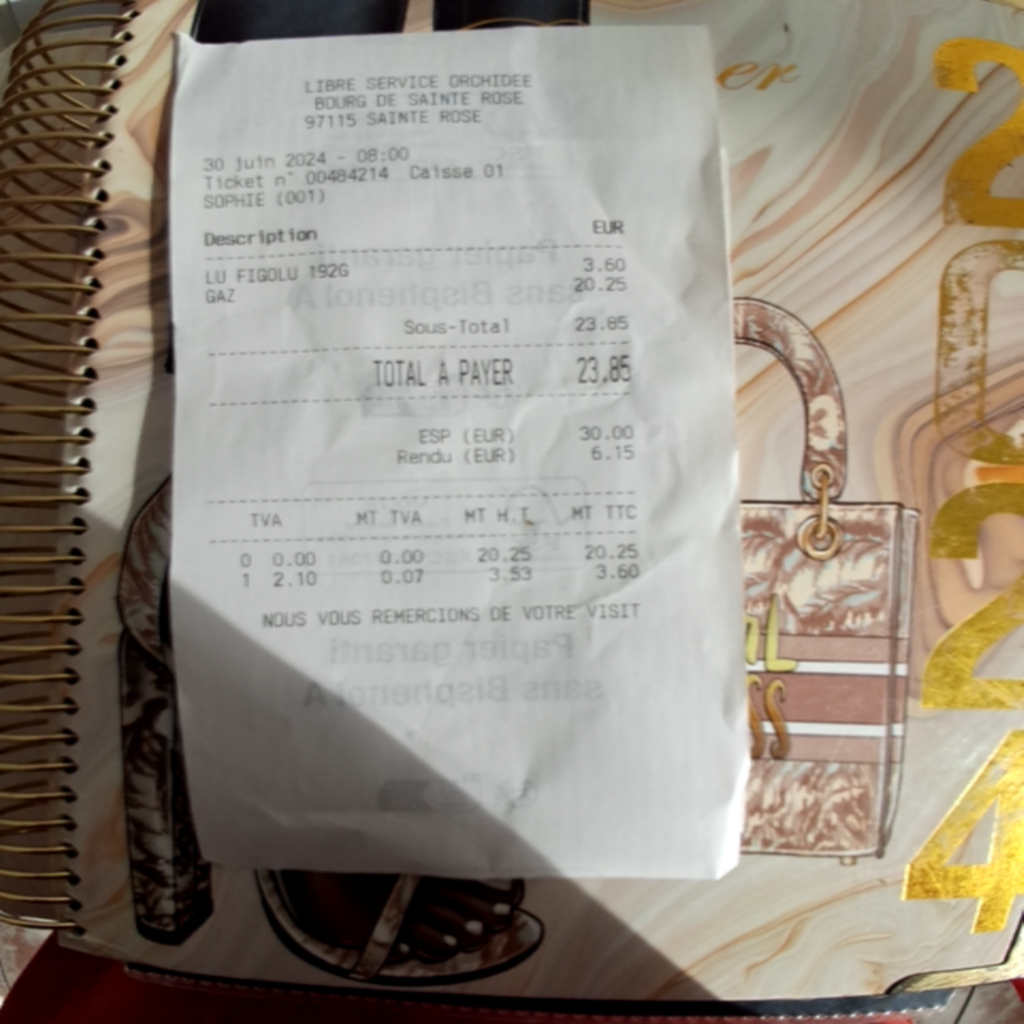recipt: (166, 29, 741, 881)
